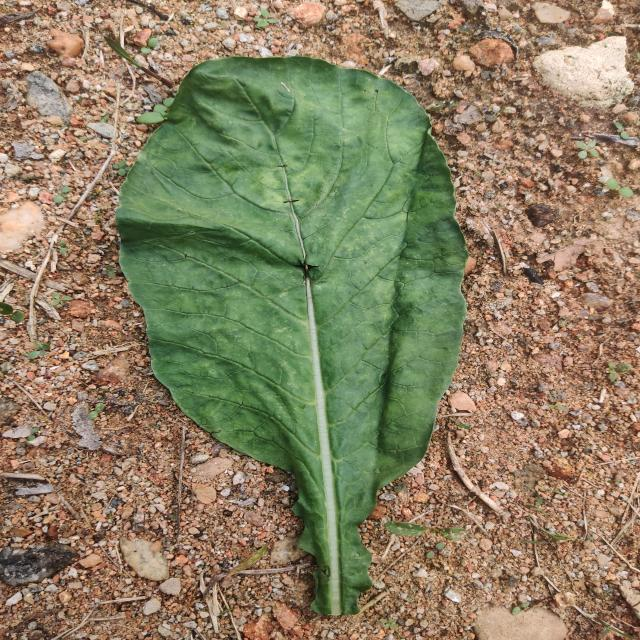raddish: (117, 58, 467, 615)
